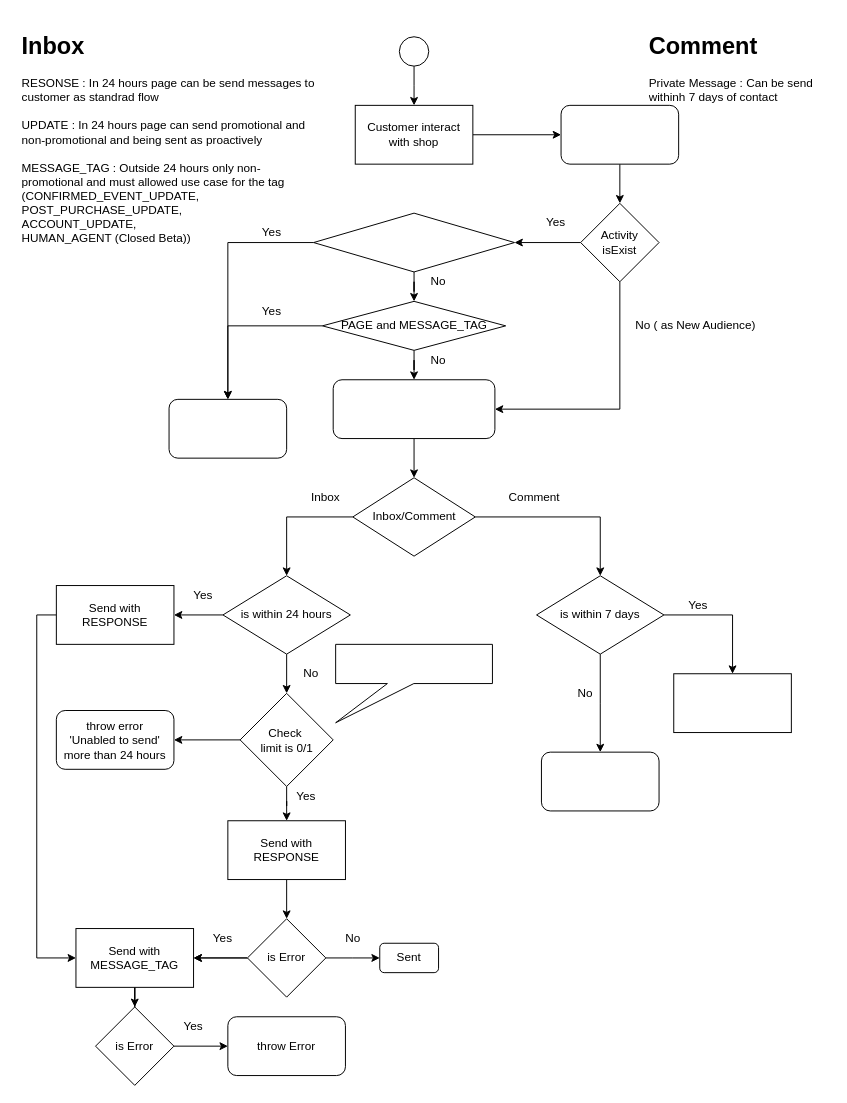
The diagram is 847 pixels wide and 1103 high, and some of its shapes have lost their labels. Here are the shapes that lost their labels. From the top down, the centre of each, then its label:
At point 619,134: "Process customer last activity".
At point 413,242: "PAGE and PRIVATE_MESSAGE".
At point 227,428: "Throw limit of usage".
At point 413,409: "Check Incoming Hook Type".
At point 413,683: "check by previous message payload type".
At point 732,703: "send message as PRIVATE_MESSAGE".
At point 599,781: "throw error 'Unabled to send' more than 7 days".
